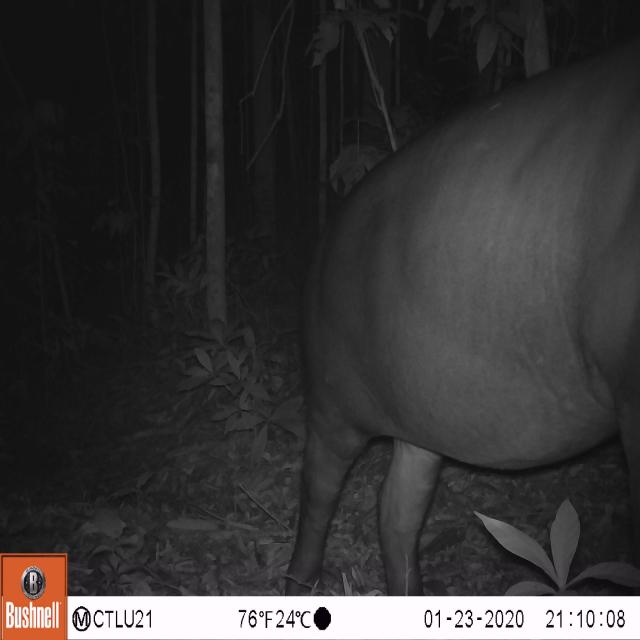Lowland Tapir: (285, 39, 640, 591)
